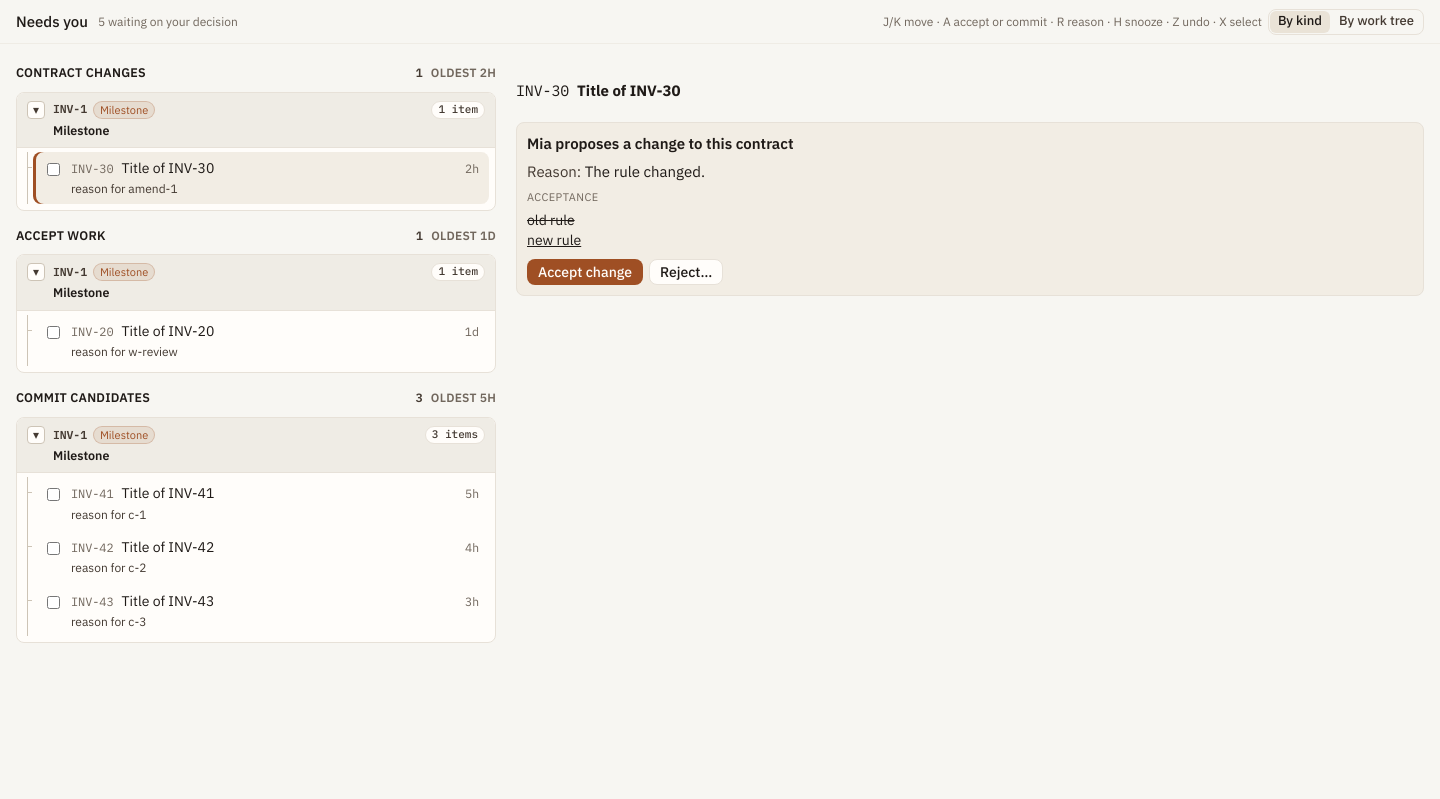
Needs you (INV-1092) › commits a batch and reports each refusal by item
This screenshot has width=1440, height=799.
Click the checkbox named "Select INV-41".
click(54, 495)  # box [47, 488, 60, 501]
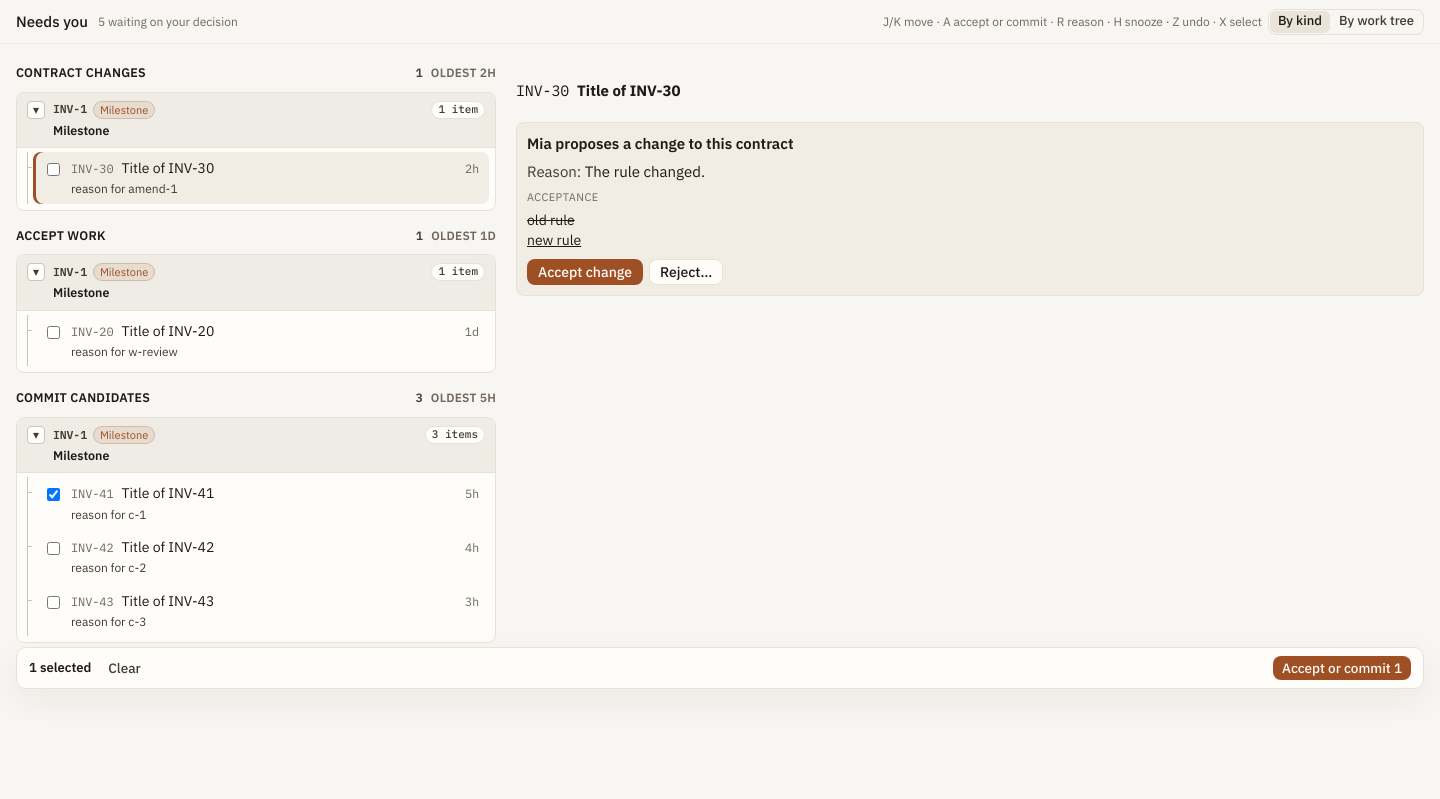
Click the checkbox named "Select INV-42".
click(54, 549)  # box [47, 542, 60, 555]
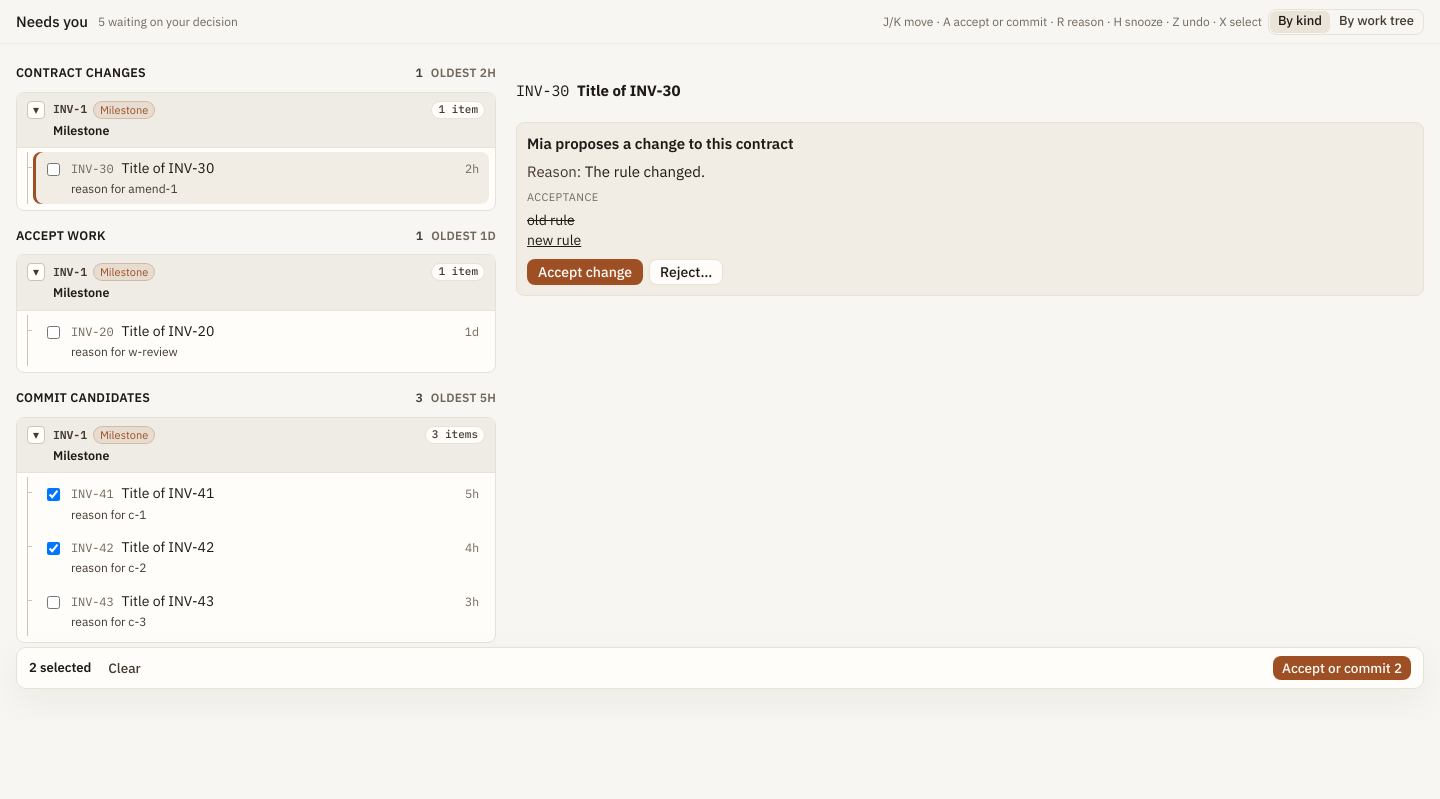
Click the checkbox named "Select INV-43".
click(54, 602)  # box [47, 596, 60, 609]
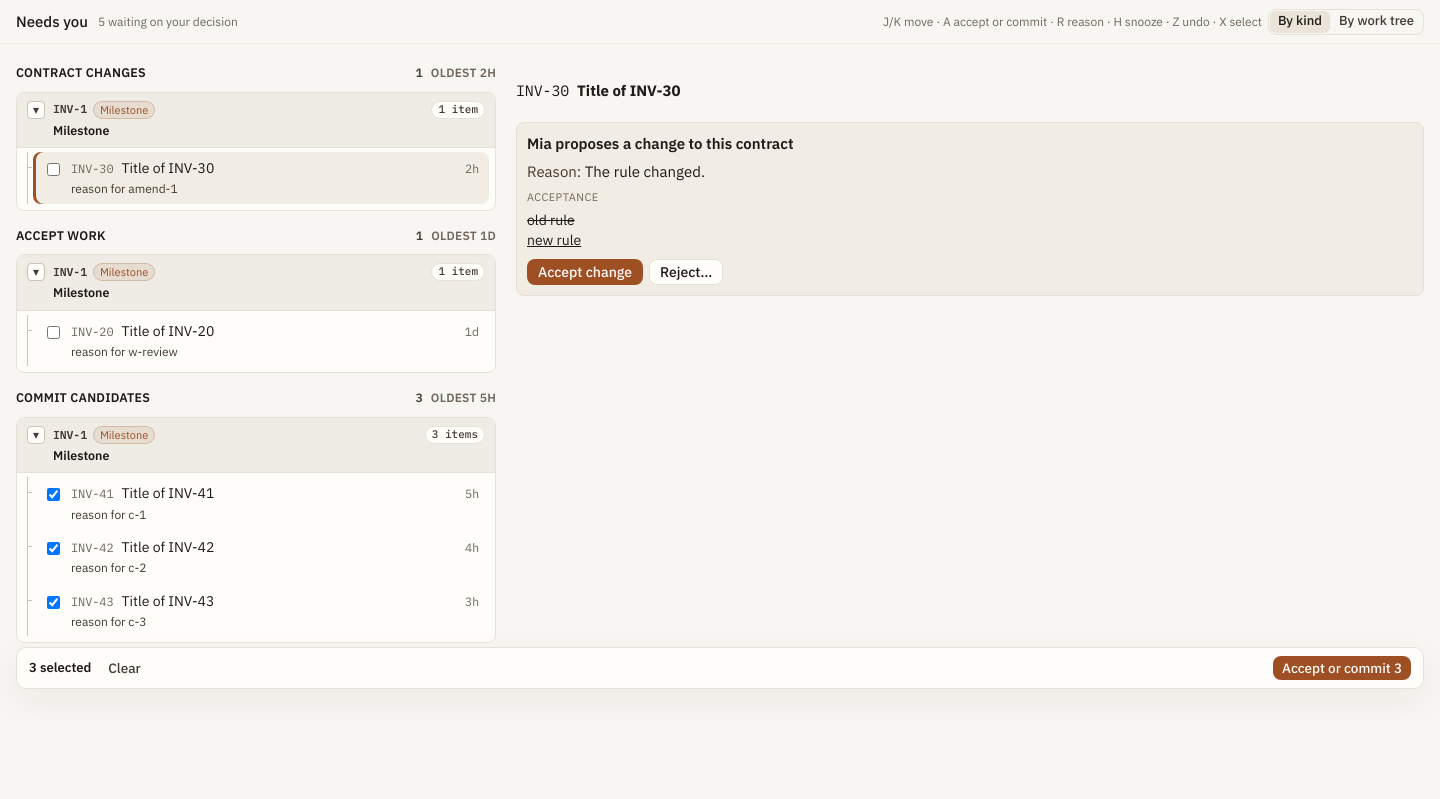
Click the button "Accept or commit 3".
click(1342, 668)  # box [1273, 656, 1411, 680]
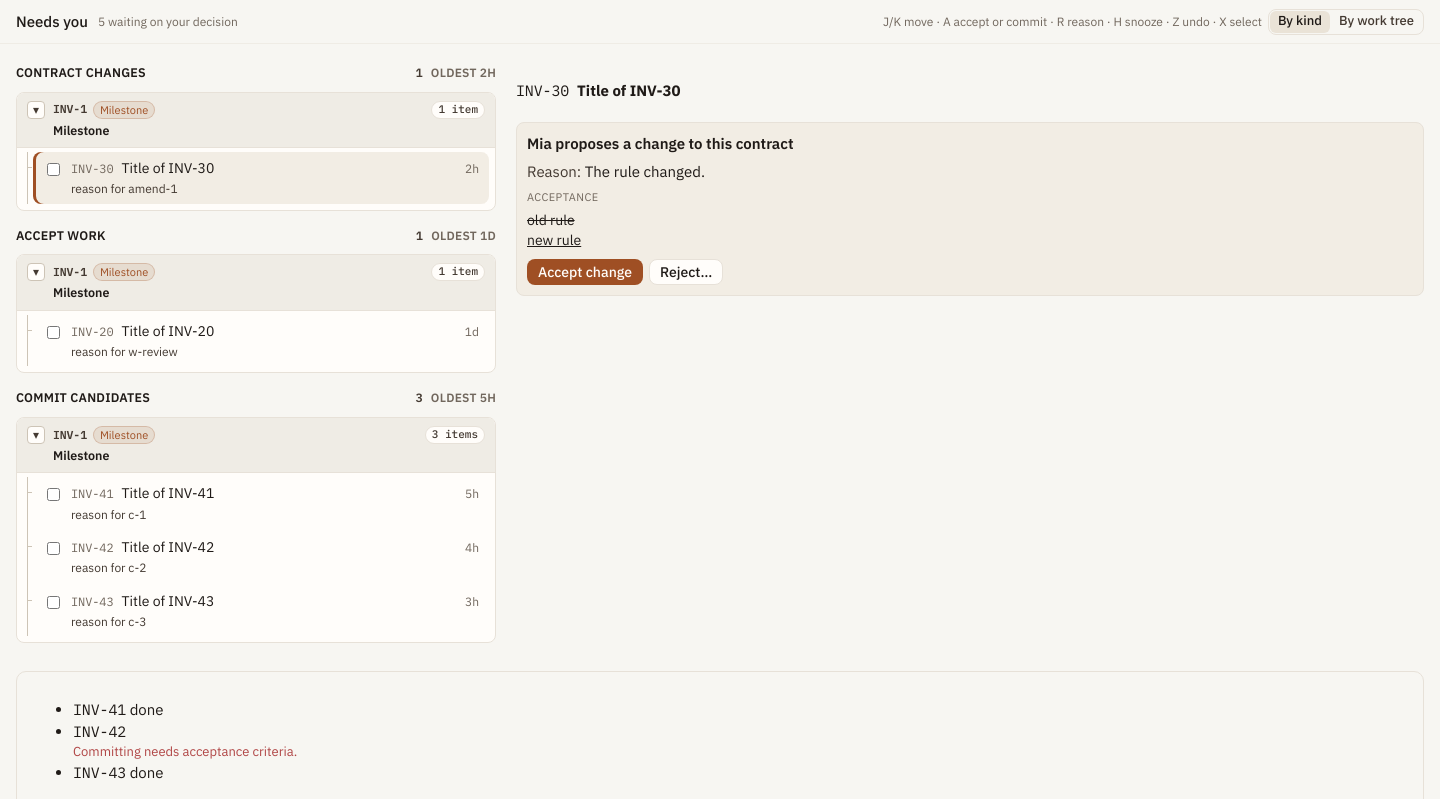
Check: the text "Committing needs acceptance criteria." is shown, box [73, 743, 297, 760]
Check: the number of list items "done" is 2, box [73, 700, 164, 719]; [73, 763, 164, 782]
